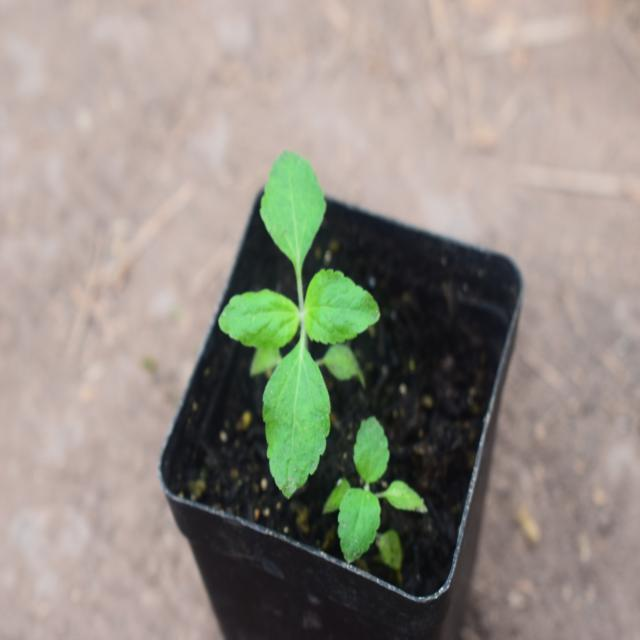billygoat_weed: (224, 156, 372, 492), (322, 406, 418, 574)
